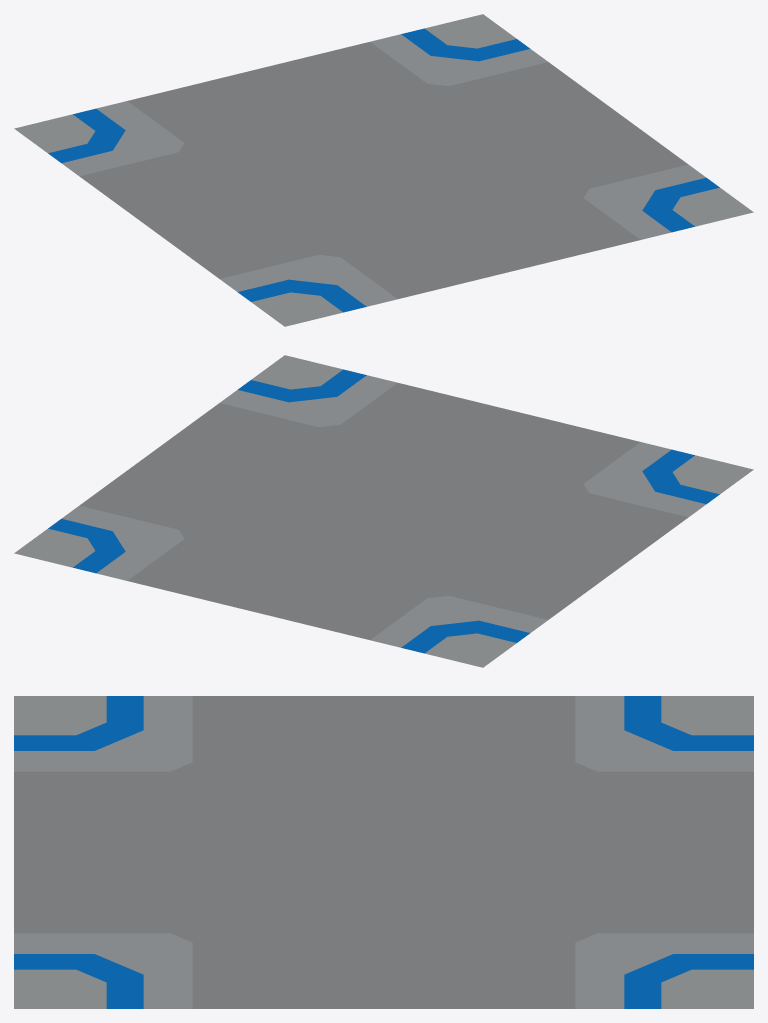
The model's file is Ceiling_type_B_012.fbx.
The picture shows the model from 3 angles, top to bottom: view 1: azimuth 30°, elevation 25°; view 2: azimuth 150°, elevation 25°; view 3: azimuth 270°, elevation 25°; orthographic projection. The views are drawn at different scales.
Parts seen in each view (by area): view 1: Ceiling_type_B_012; view 2: Ceiling_type_B_012; view 3: Ceiling_type_B_012.
Part boxes in pixels (x1=…): Ceiling_type_B_012: x1=14, y1=14, x2=753, y2=326; Ceiling_type_B_012: x1=14, y1=355, x2=753, y2=667; Ceiling_type_B_012: x1=14, y1=696, x2=753, y2=1008.
Size of the model in its own units: 400 by 400 by 4.55.
